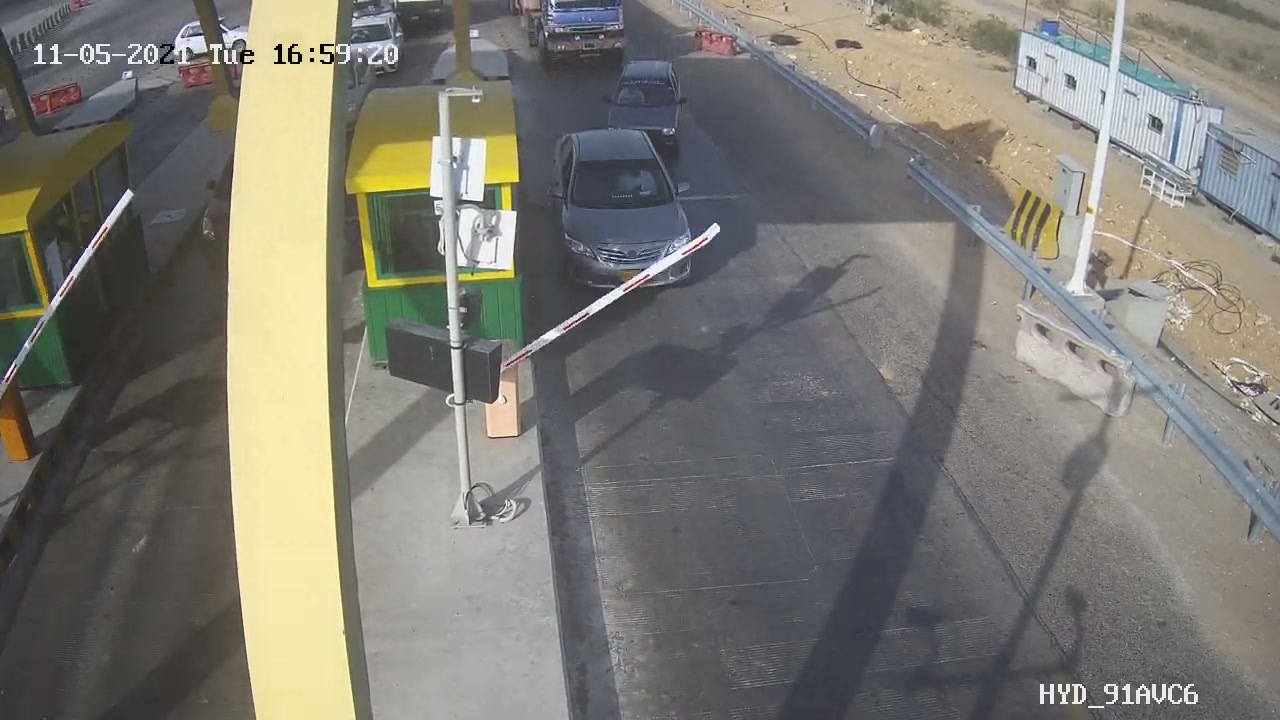F1: (540, 113, 714, 308)
